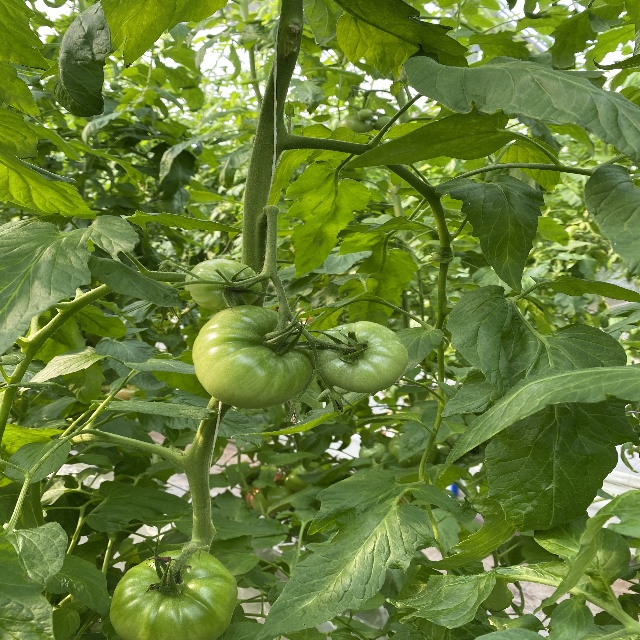b_green: (192, 305, 313, 409), (109, 549, 239, 640), (309, 321, 408, 393), (184, 258, 263, 311)
